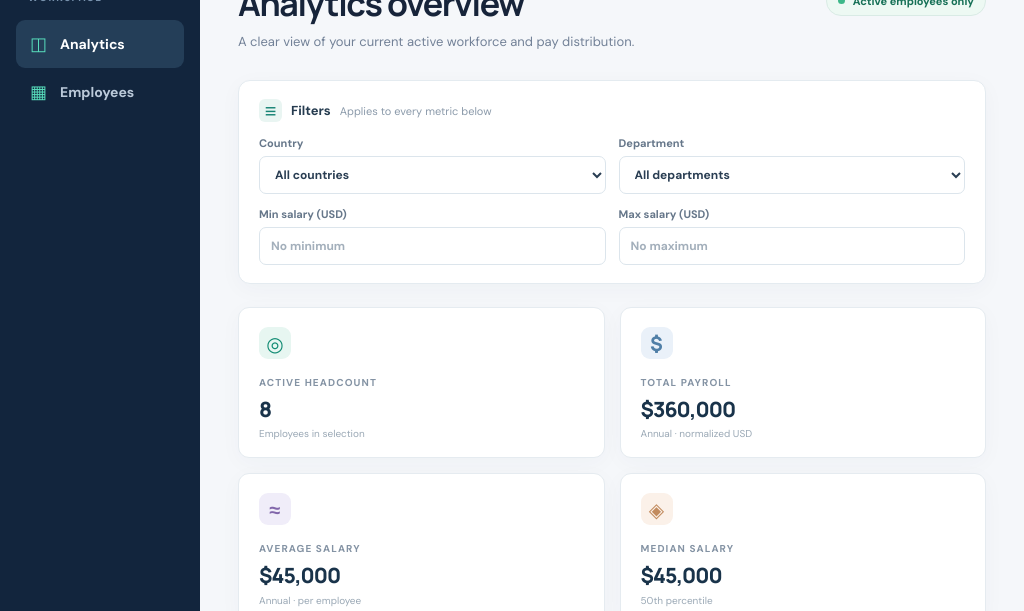
applies one filter set to every dashboard component
Expected: the text "$360,000" is shown, [640,395,735,423]
Select "India" in the dropdown named "Dashboard country": (432, 175) [259,156,606,194]
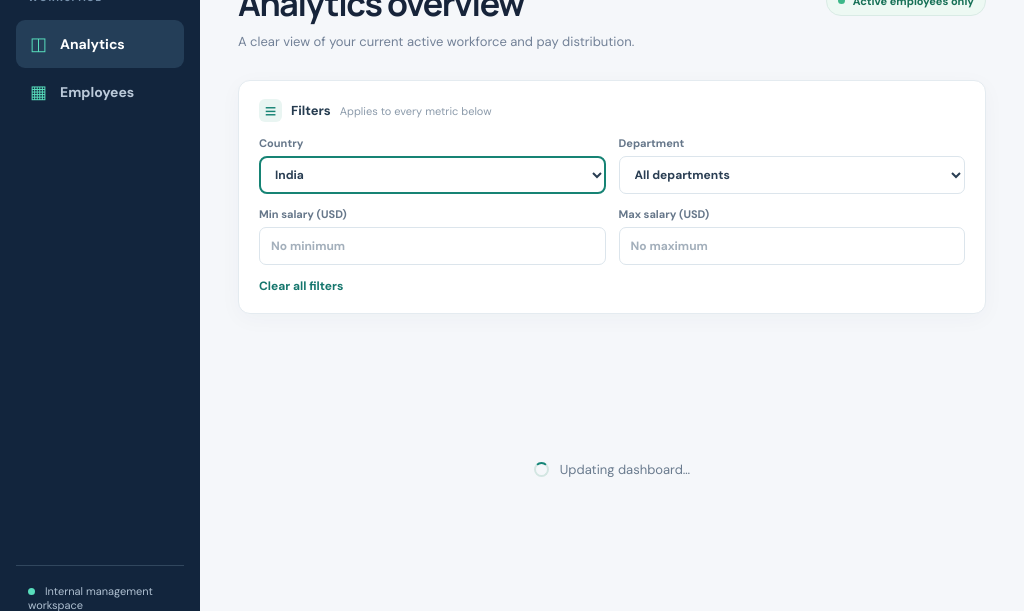
Select "Engineering" in the dropdown named "Dashboard department": (792, 175) [618,156,965,194]
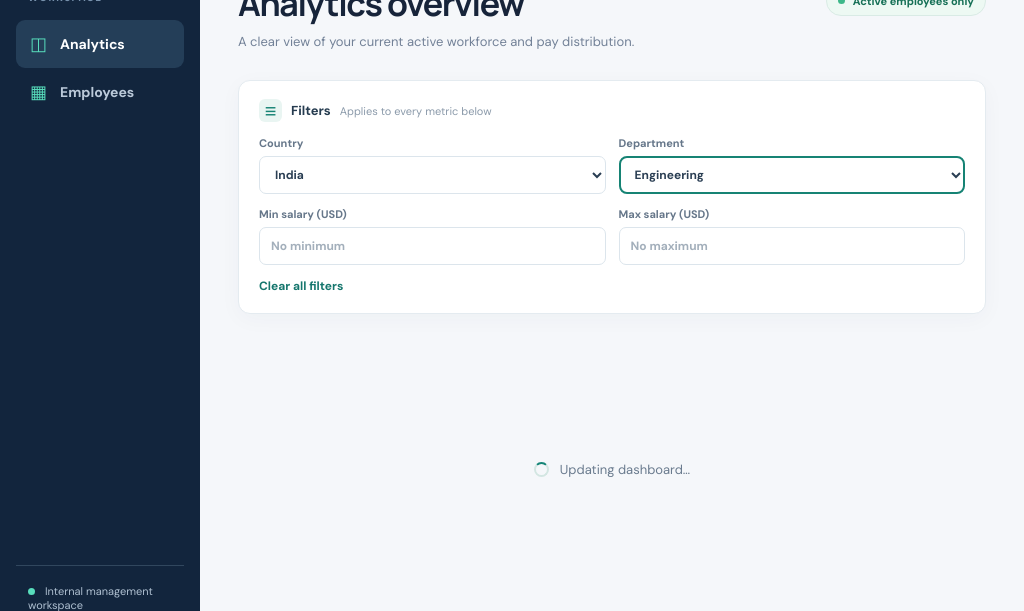
In the number field named "Minimum salary USD": (432, 246) [259,227,606,265], type "20000"
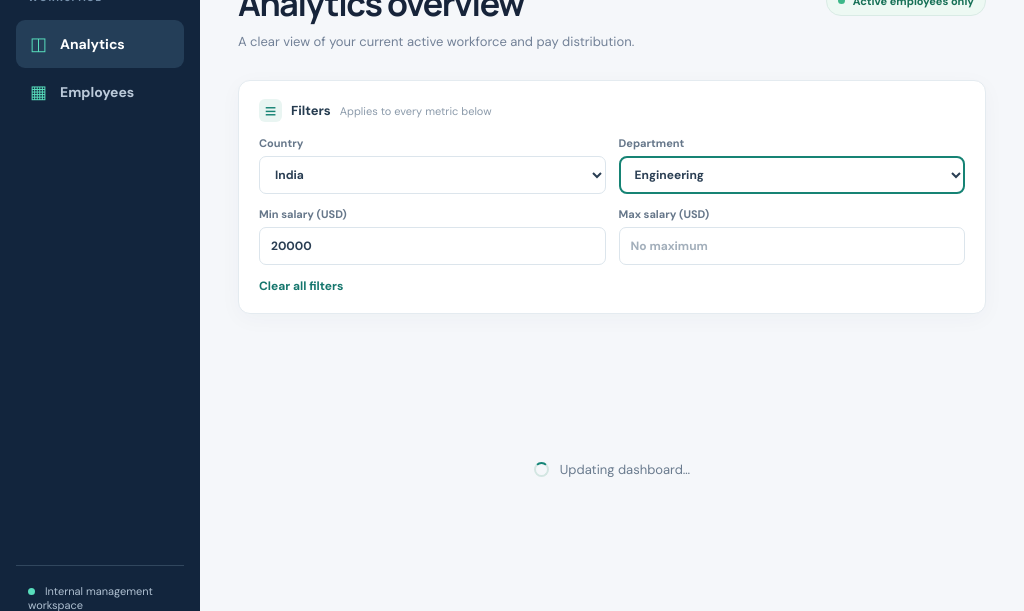
In the number field named "Maximum salary USD": (792, 246) [618,227,965,265], type "30000"
(page scrolled)
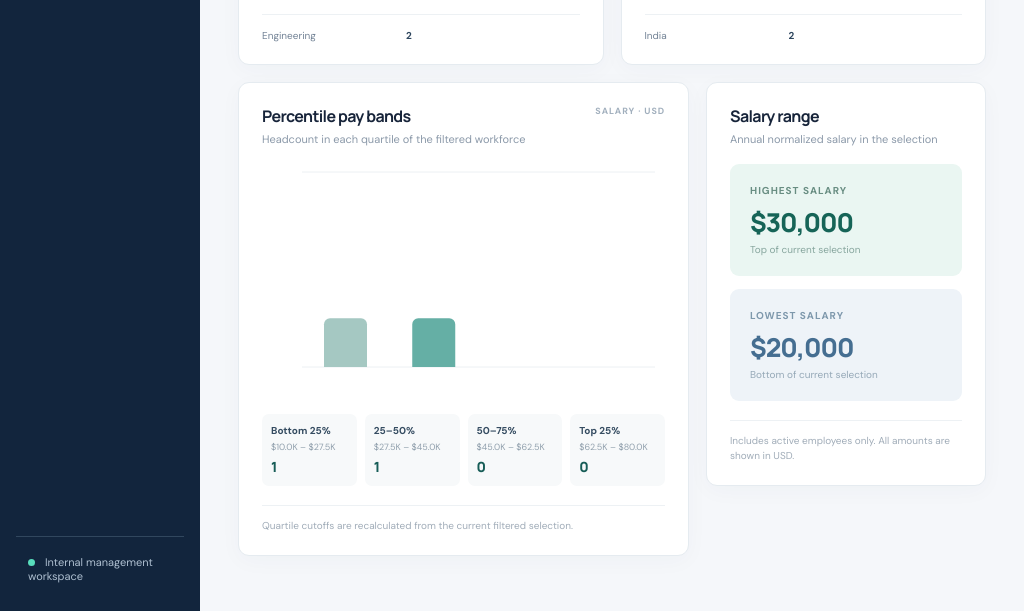
Expected: the text "$360,000" is not shown
Expected: the text "$30,000" is shown, [750,204,853,240]
Expected: the text "$20,000" is shown, [750,329,853,365]
